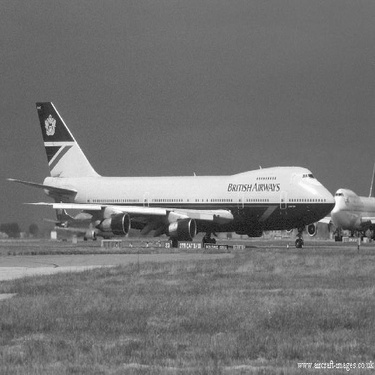airplane: (2, 83, 339, 246), (292, 173, 374, 238)
